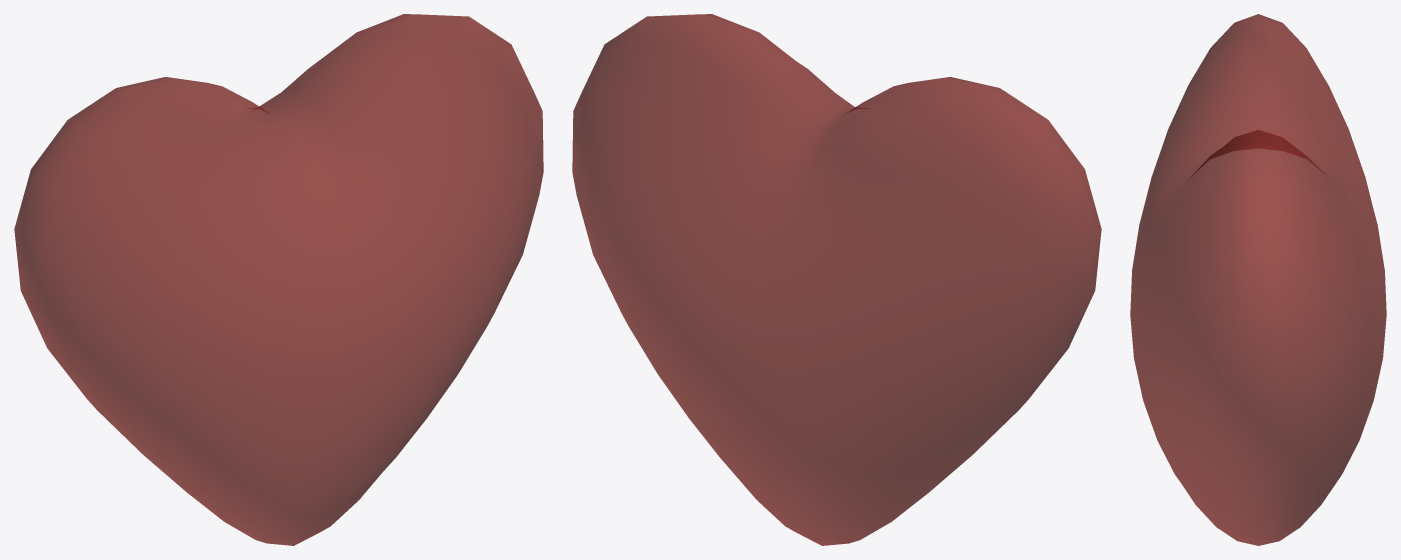
Rendered from Heart.fbx.
3 renders of one model, left to right at view 1: azimuth 30°, elevation 25°; view 2: azimuth 150°, elevation 25°; view 3: azimuth 270°, elevation 25°, orthographic. The views are drawn at different scales.
Visible parts, largest first — view 1: Heart; view 2: Heart; view 3: Heart.
Part boxes in pixels (box(x1,y1,x2,y2)): Heart: box(14, 14, 543, 545); Heart: box(572, 14, 1101, 545); Heart: box(1130, 14, 1386, 545).
Size of the model in its own units: 87.39 by 80.48 by 40.87.
